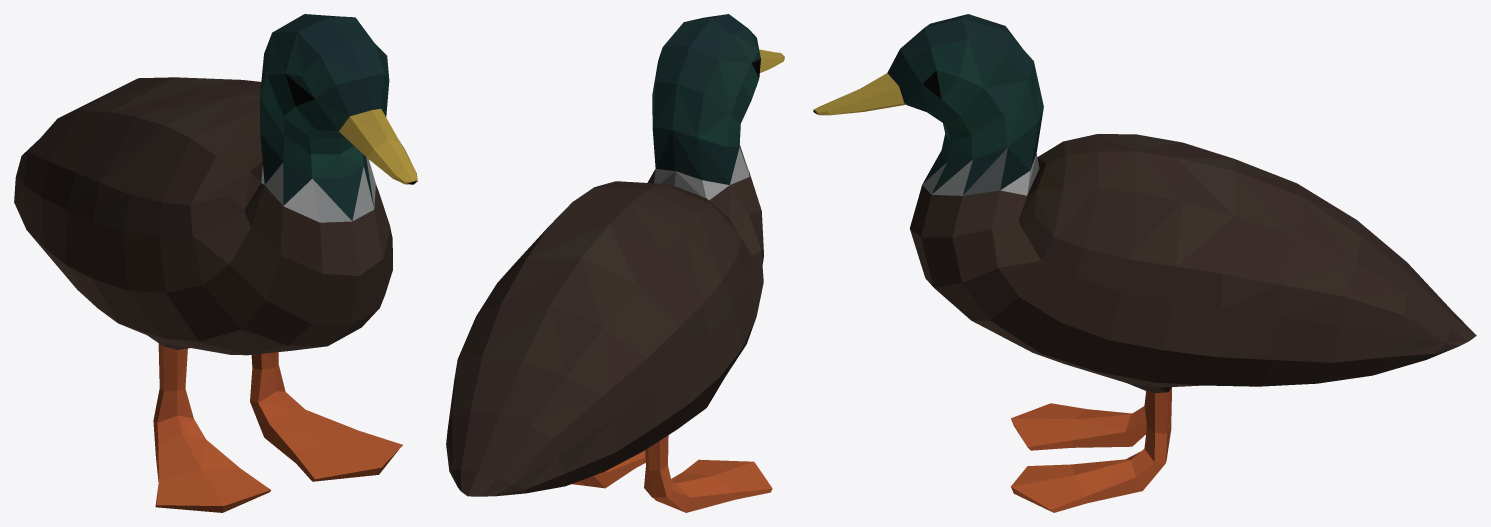
The model's file is duck.glb.
3 views of the same model, side by side, from view 1: azimuth 30°, elevation 25°; view 2: azimuth 150°, elevation 25°; view 3: azimuth 270°, elevation 25° (orthographic). The views are drawn at different scales.
Visible parts, largest first — view 1: MallardDuck_Mesh; view 2: MallardDuck_Mesh; view 3: MallardDuck_Mesh.
Boxes of the visible parts, x1,y1,x2,y2 form: MallardDuck_Mesh: (14, 14, 417, 512); MallardDuck_Mesh: (446, 14, 784, 512); MallardDuck_Mesh: (813, 14, 1476, 512).
Bounding box in the file's own units: 0.9816 × 1.87 × 2.55.
